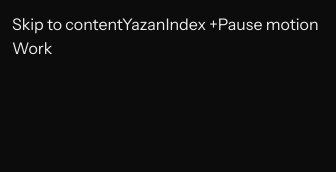
it: opens the index, closes on Escape with focus return, and closes on selection
The image size is (336, 172).
Click the button "Index +" at (192, 24), box [165, 12, 218, 36]
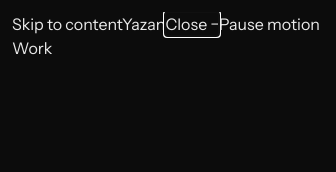
Check: the button named "Index +" is expanded, box [165, 12, 219, 36]
Press Escape
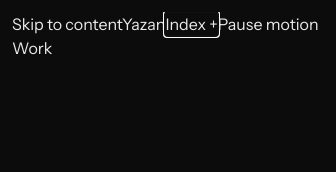
Check: the button "Index +" is collapsed
Click the button "Index +" at (192, 24), box [165, 12, 218, 36]
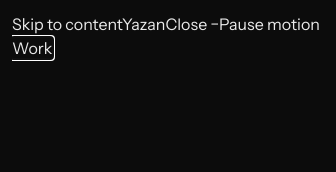
Press Escape
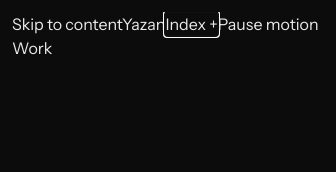
Check: the button "Index +" is collapsed
Click the button "Index +" at (192, 24), box [165, 12, 218, 36]
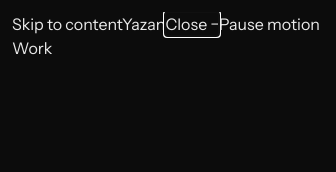
Click the link "Work" at (32, 48), box [12, 38, 52, 58]
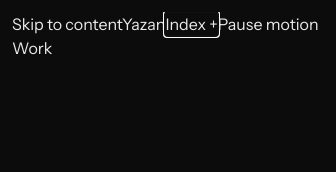
Check: the button "Index +" is collapsed, box [165, 12, 218, 36]
